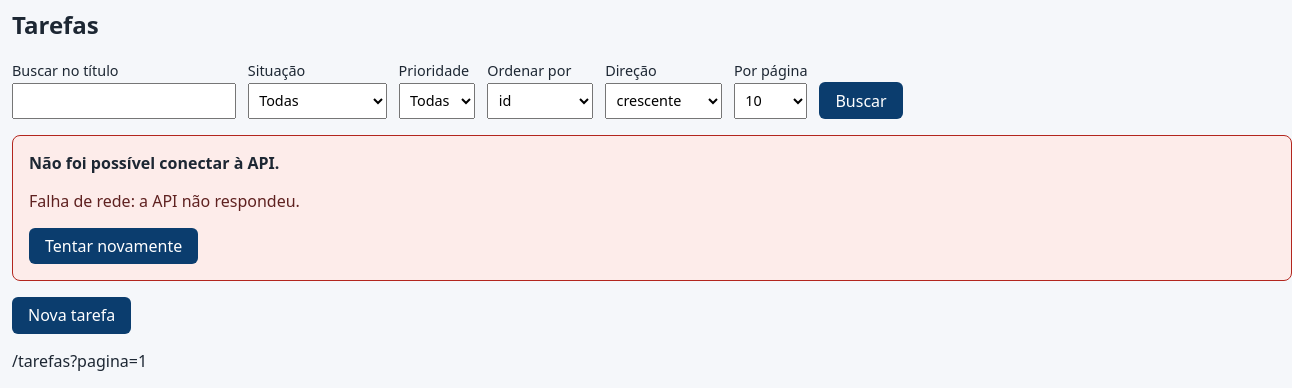
Test: ListaTarefas › mostra o erro e permite tentar novamente sem ficar preso em carregando
The width and height of the screenshot is (1292, 388).
Check: the message shows "Não foi possível conectar à API.", box 29,152 -> 279,174
Click the button "Tentar novamente". click: [114, 246]
box: 29,228 -> 198,264
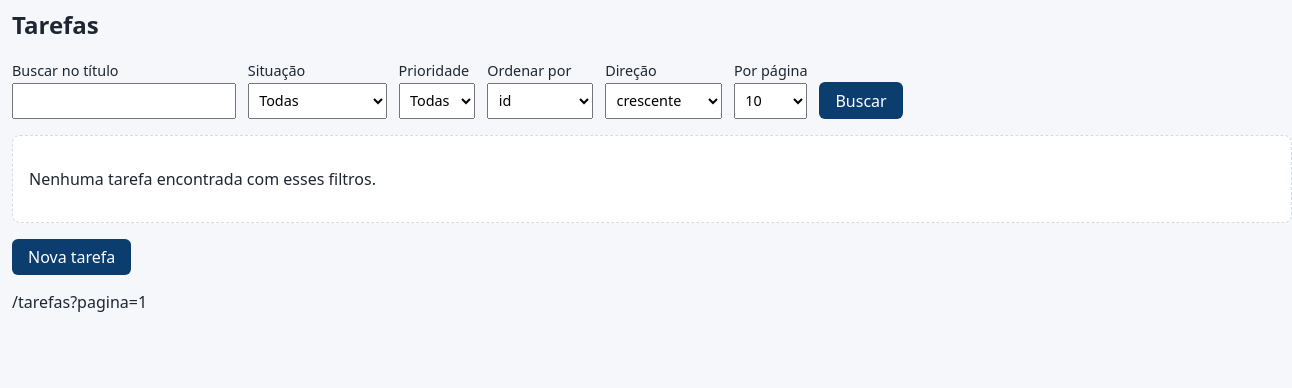
Check: the text "Nenhuma tarefa encontrada com esses filtros." is shown, box 29,168 -> 376,190
